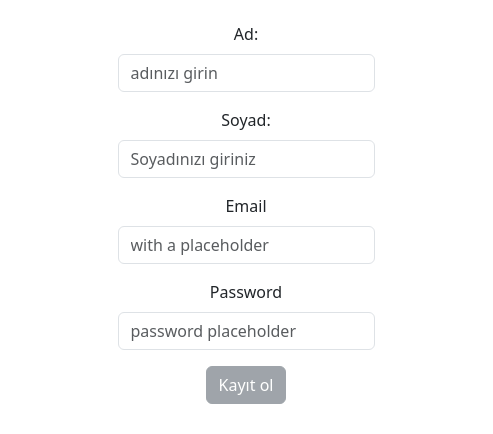
Test case: Register › error messages › password
In the password field with test id "password": (247, 331) [118,312,375,350], type "asadsa"
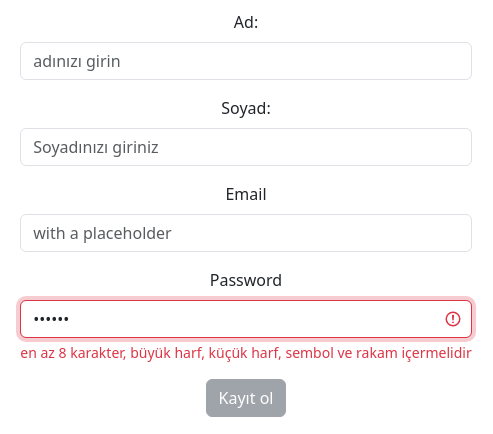
Expected: the text "en az 8 karakter, büyük harf, küçük harf, sembol ve rakam içermelidir" is shown, [20,342,472,362]
